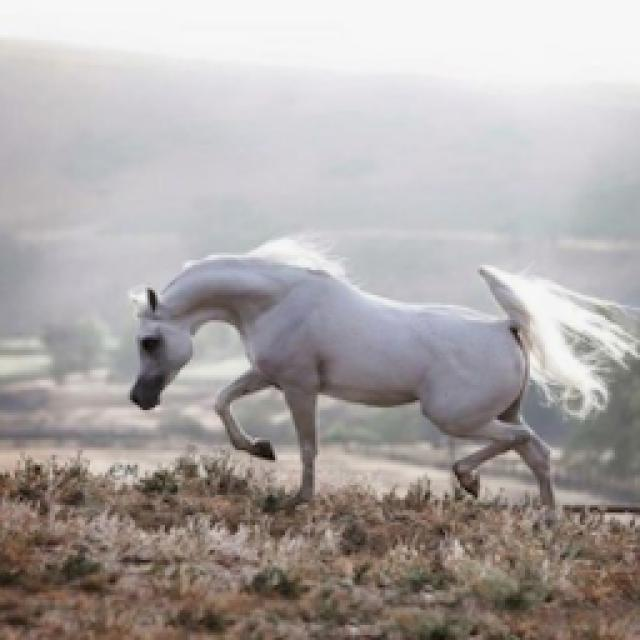Horse: (120, 227, 638, 525)
